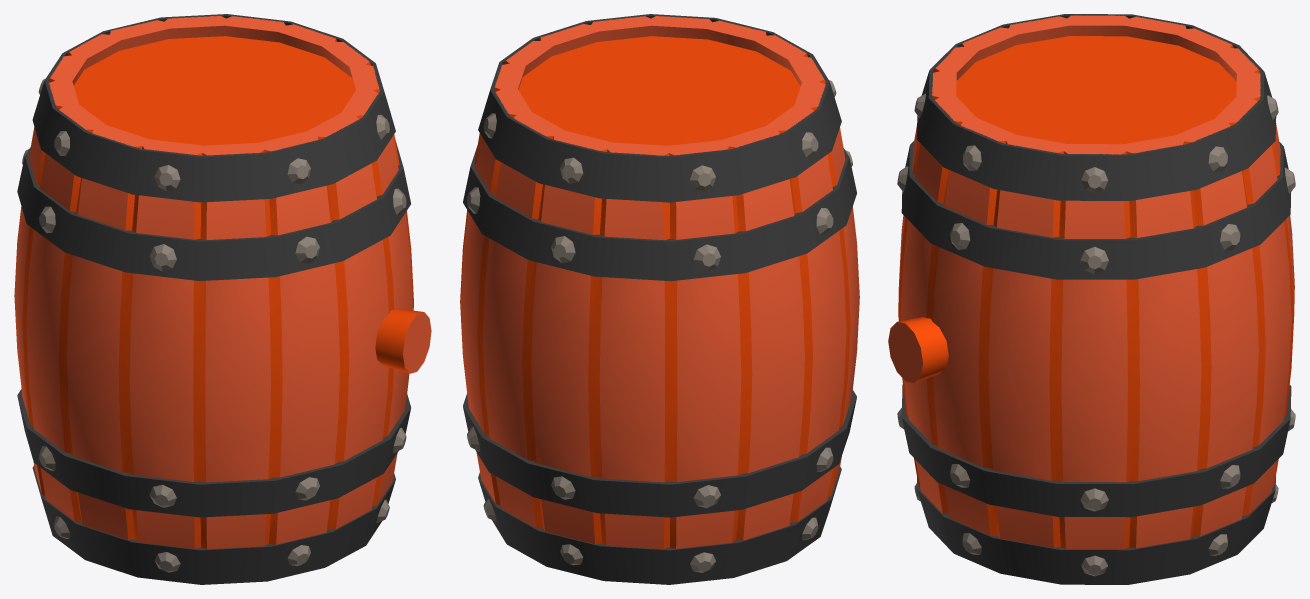
Rendered from winter_castle_item19.glb.
The picture shows the model from 3 angles, left to right: view 1: azimuth 30°, elevation 25°; view 2: azimuth 150°, elevation 25°; view 3: azimuth 270°, elevation 25°; orthographic projection.
Visible parts, largest first — view 1: Item19_Medieval_0; view 2: Item19_Medieval_0; view 3: Item19_Medieval_0.
Part boxes in pixels (x1=…): Item19_Medieval_0: x1=14, y1=14, x2=431, y2=584; Item19_Medieval_0: x1=460, y1=14, x2=859, y2=584; Item19_Medieval_0: x1=888, y1=14, x2=1295, y2=584.
Bounding box in the file's own units: 0.3806 × 0.4523 × 0.3893.
Materials: 1 (1 with a texture image).
